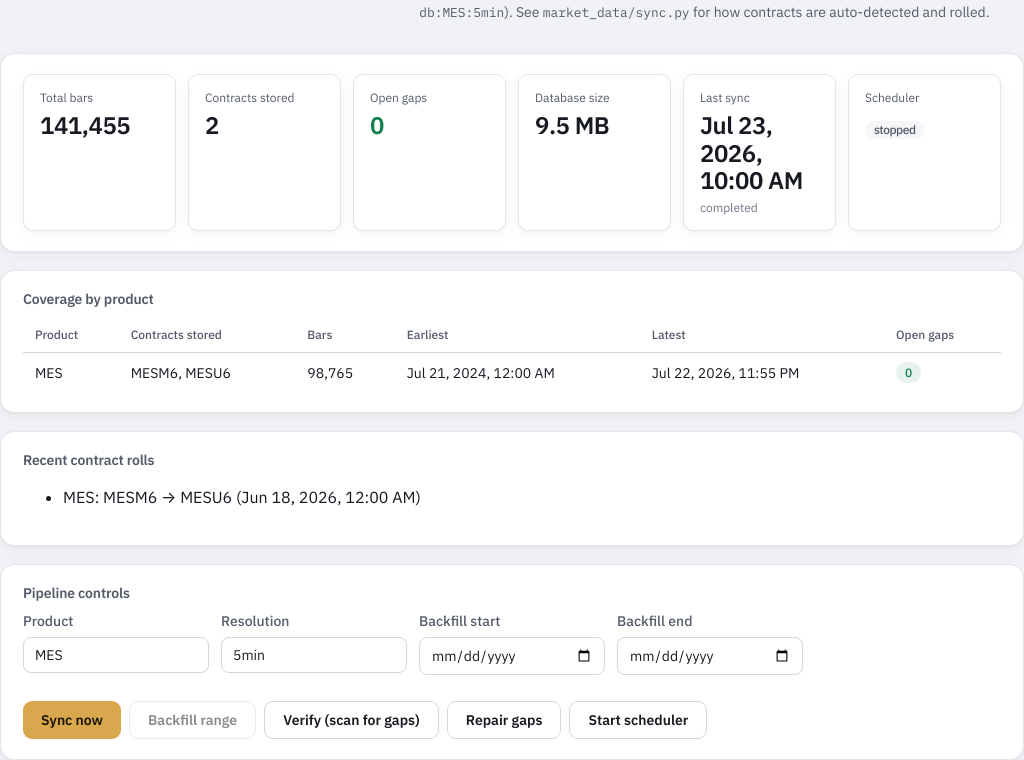
MarketData › syncs now and shows the result
This screenshot has width=1024, height=760.
(page scrolled)
Click the button "Sync now": (72,720) [23, 701, 121, 739]
(page scrolled)
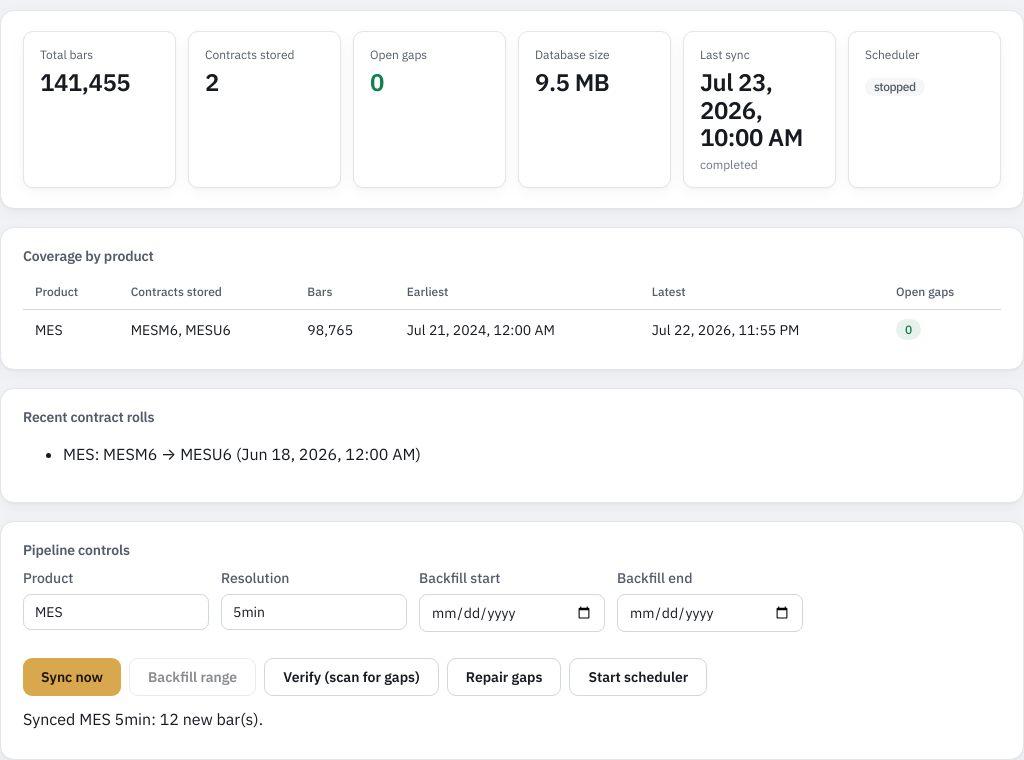
Result: the text "Synced MES 5min: 12 new bar(s)." is shown at [23, 709, 263, 729]
